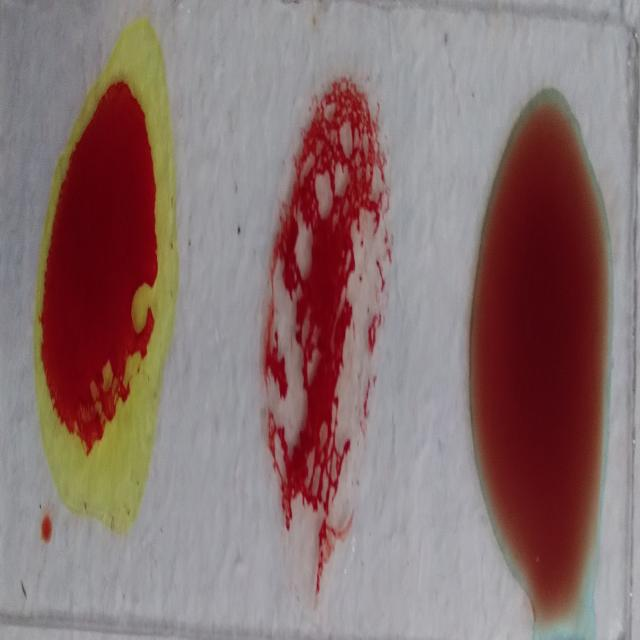B: (38, 27, 172, 534)
D: (257, 66, 395, 571)
